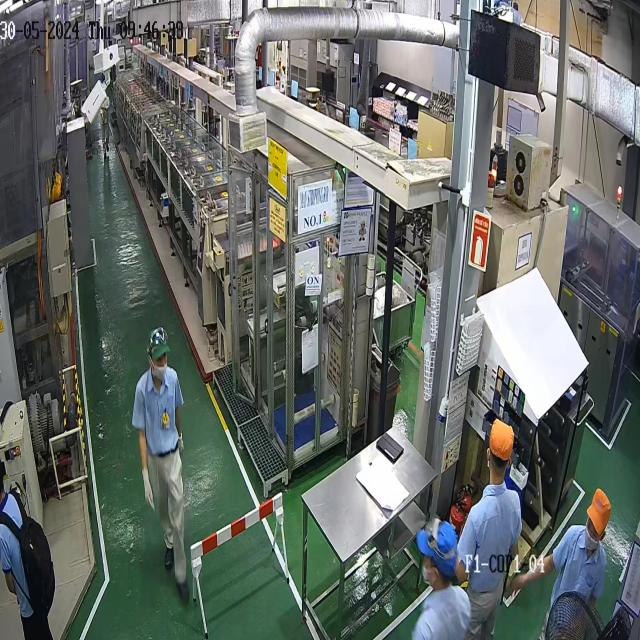Person: (131, 326, 190, 603), (510, 487, 611, 640), (454, 418, 522, 639), (0, 460, 55, 640), (411, 517, 472, 639)
